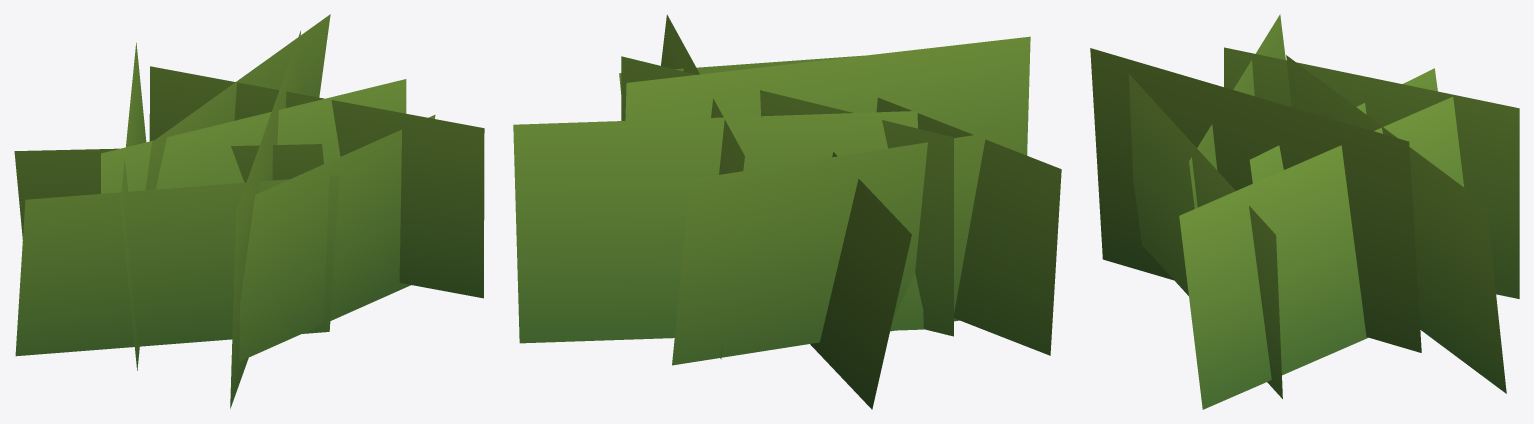
The model's file is grass_b.glb.
3 renders of one model, left to right at view 1: azimuth 30°, elevation 25°; view 2: azimuth 150°, elevation 25°; view 3: azimuth 270°, elevation 25°, orthographic. The views are drawn at different scales.
Parts seen in each view (by area): view 1: GrassBundle_01; view 2: GrassBundle_01; view 3: GrassBundle_01.
Boxes of the visible parts, <box> form: GrassBundle_01: <box>14,14,484,408</box>; GrassBundle_01: <box>513,14,1061,409</box>; GrassBundle_01: <box>1090,14,1519,409</box>.
Bounding box in the file's own units: 1.38 × 0.6975 × 1.17.
